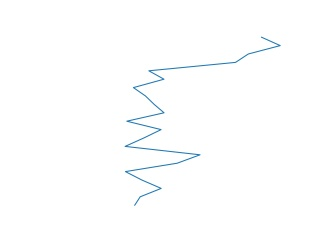crevasseRiverChannelBar: (118, 34, 287, 210)
